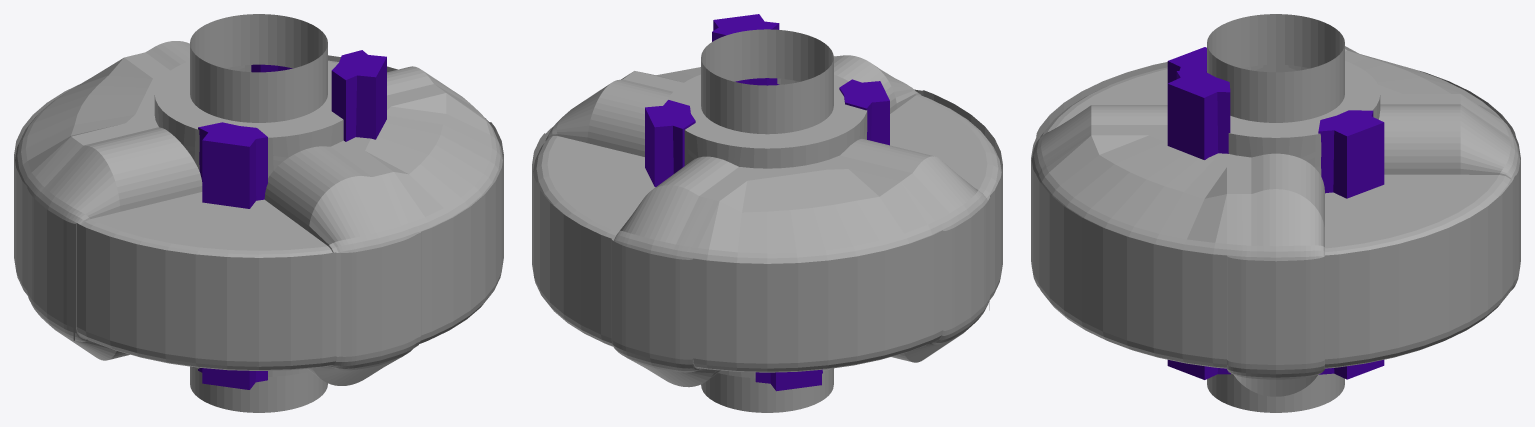
Rendered from Arena_BlockOut62.fbx.
3 renders of one model, left to right at view 1: azimuth 30°, elevation 25°; view 2: azimuth 150°, elevation 25°; view 3: azimuth 270°, elevation 25°, orthographic. The views are drawn at different scales.
Visible parts, largest first — view 1: Eoof, Floor, Columns; view 2: Eoof, Floor, Columns; view 3: Eoof, Floor, Columns.
Part boxes in pixels (x1,y1,x2,y2): Eoof: [15, 14, 502, 257]; Floor: [14, 55, 503, 412]; Columns: [198, 50, 386, 389]; Eoof: [533, 29, 1001, 263]; Floor: [532, 84, 1002, 412]; Columns: [645, 14, 889, 391]; Eoof: [1031, 14, 1520, 261]; Floor: [1031, 62, 1520, 412]; Columns: [1167, 47, 1384, 379].
Bounding box in the file's own units: 53623 × 41151 × 53623.
